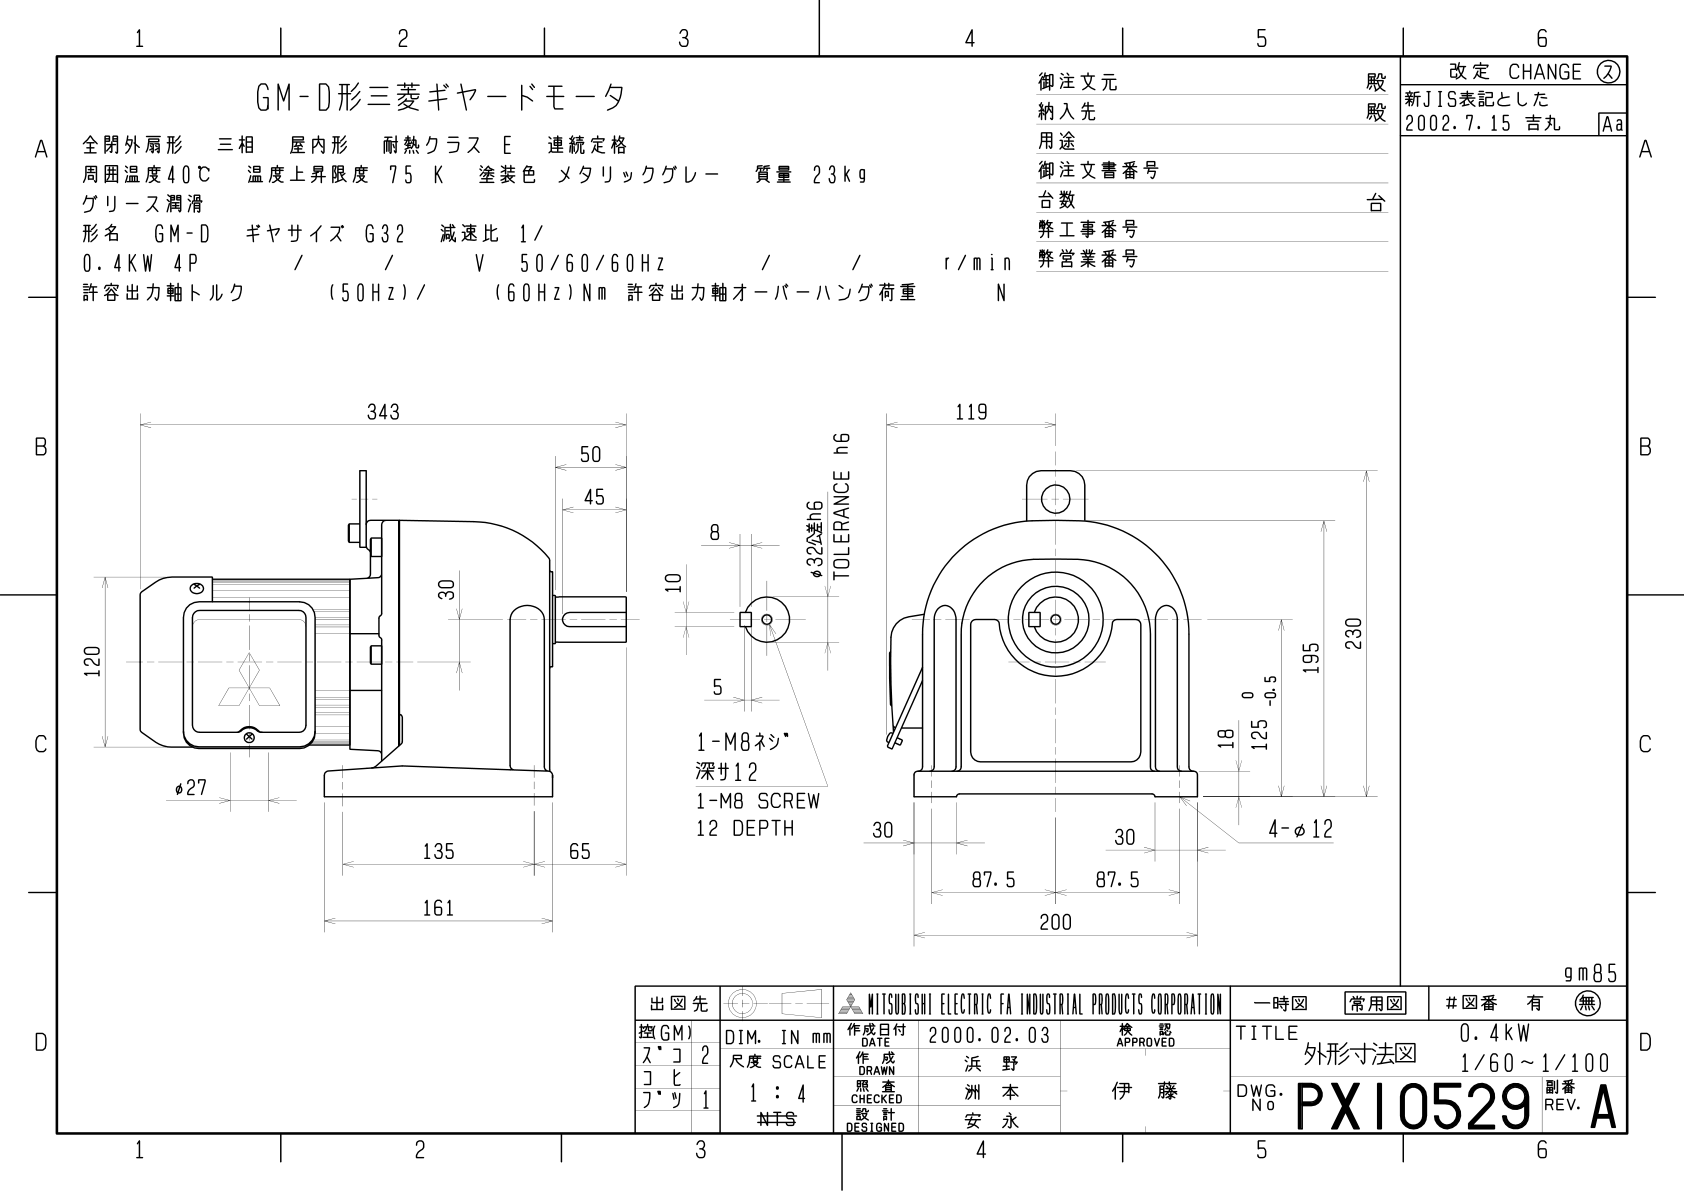GM_D_屋内＿三相_脚: (1, 9, 1678, 1183)
